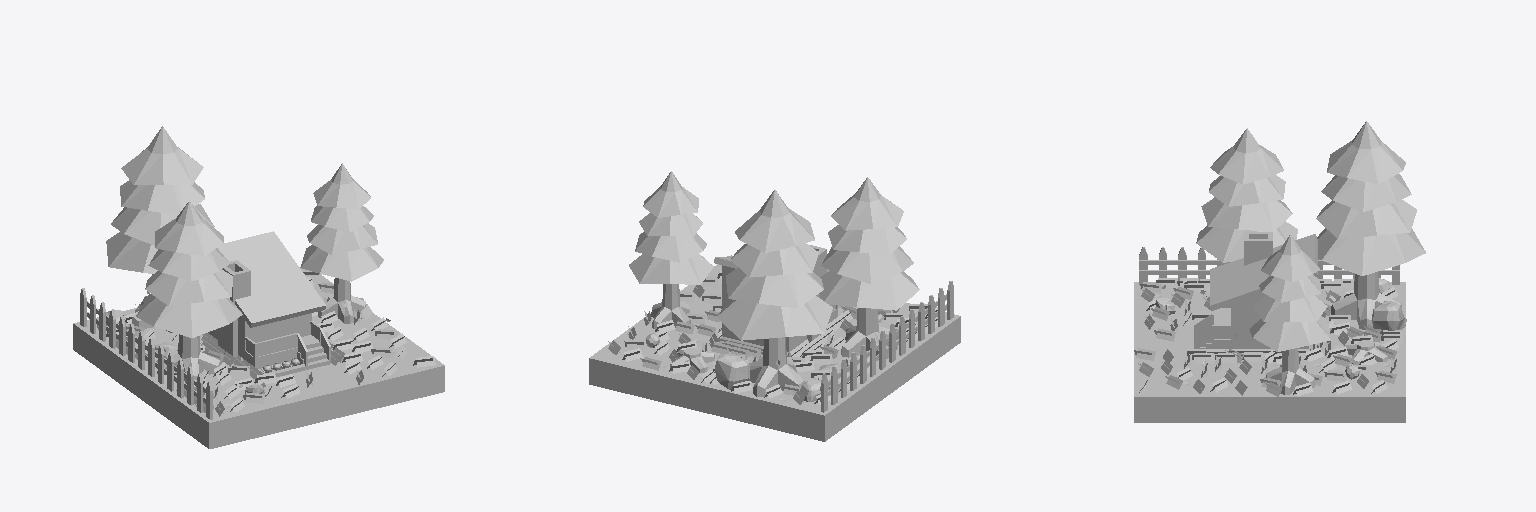
The model's file is forest_house_ori.obj.
3 renders of one model, left to right at view 1: azimuth 30°, elevation 25°; view 2: azimuth 150°, elevation 25°; view 3: azimuth 270°, elevation 25°, orthographic.
Visible parts, largest first — view 1: ground, tree_01, tree_02, tree_00, house, fence, support, chimney; view 2: ground, tree_02, tree_01, tree_00, fence, rock_02, tree_stump; view 3: ground, tree_02, tree_01, tree_00, house, fence, support, chimney, rock_02, tree_stump.
Boxes of the visible parts, <box> form: ground: <box>73,268,444,448</box>; tree_01: <box>136,201,242,382</box>; tree_02: <box>106,126,214,332</box>; tree_00: <box>300,163,383,323</box>; house: <box>216,231,325,350</box>; fence: <box>80,288,213,419</box>; support: <box>208,321,330,376</box>; chimney: <box>218,260,250,362</box>; ground: <box>589,264,960,441</box>; tree_02: <box>717,190,832,396</box>; tree_01: <box>819,177,919,358</box>; tree_00: <box>629,171,713,329</box>; fence: <box>820,281,953,412</box>; rock_02: <box>715,353,749,389</box>; tree_stump: <box>670,348,714,372</box>; ground: <box>1134,282,1405,422</box>; tree_02: <box>1316,121,1425,329</box>; tree_01: <box>1196,128,1297,262</box>; tree_00: <box>1249,234,1330,394</box>; house: <box>1210,234,1317,339</box>; fence: <box>1139,247,1399,284</box>; support: <box>1194,305,1308,350</box>; chimney: <box>1244,232,1272,265</box>; rock_02: <box>1372,300,1404,331</box>; tree_stump: <box>1344,340,1387,364</box>.
Bounding box in the file's own units: 0.1511 × 0.1257 × 0.1506.